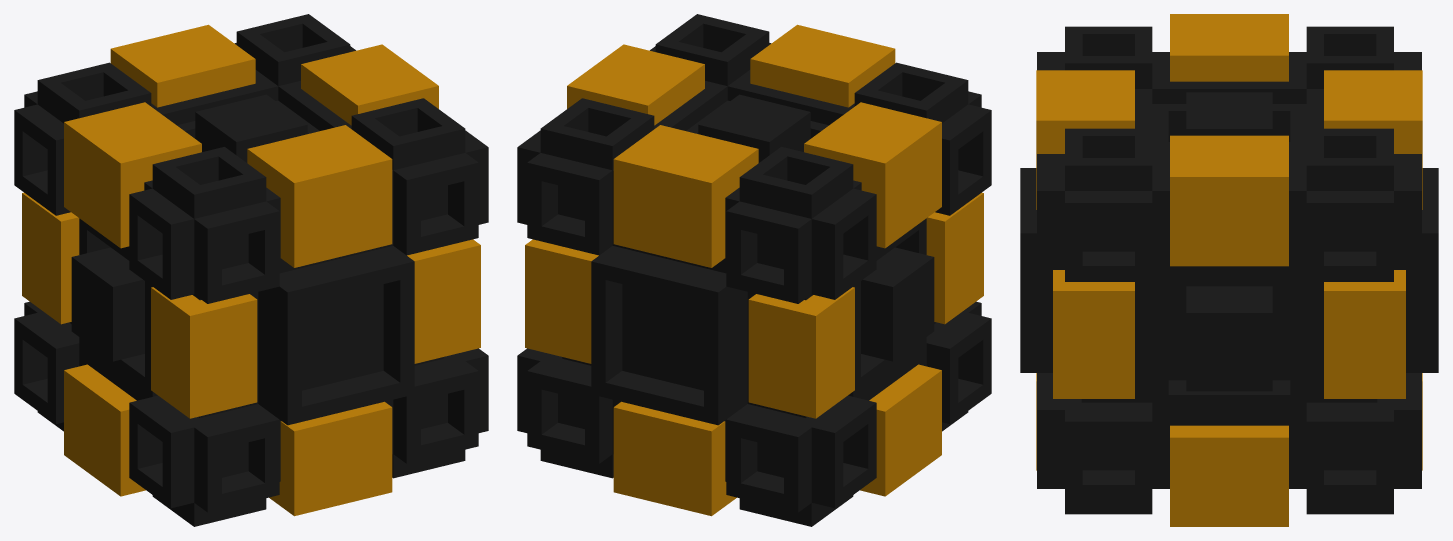
3 renders of one model, left to right at view 1: azimuth 30°, elevation 25°; view 2: azimuth 150°, elevation 25°; view 3: azimuth 270°, elevation 25°, orthographic. The views are drawn at different scales.
Parts seen in each view (by area): view 1: Cube001; view 2: Cube001; view 3: Cube001.
Boxes of the visible parts, <box> form: Cube001: <box>14,14,488,526</box>; Cube001: <box>517,14,991,526</box>; Cube001: <box>1020,14,1438,526</box>.
Bounding box in the file's own units: 0.4883 × 0.4883 × 0.5294.
